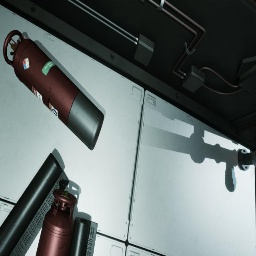NitrogenTank ,: (3, 30, 104, 150), (36, 189, 77, 256)
